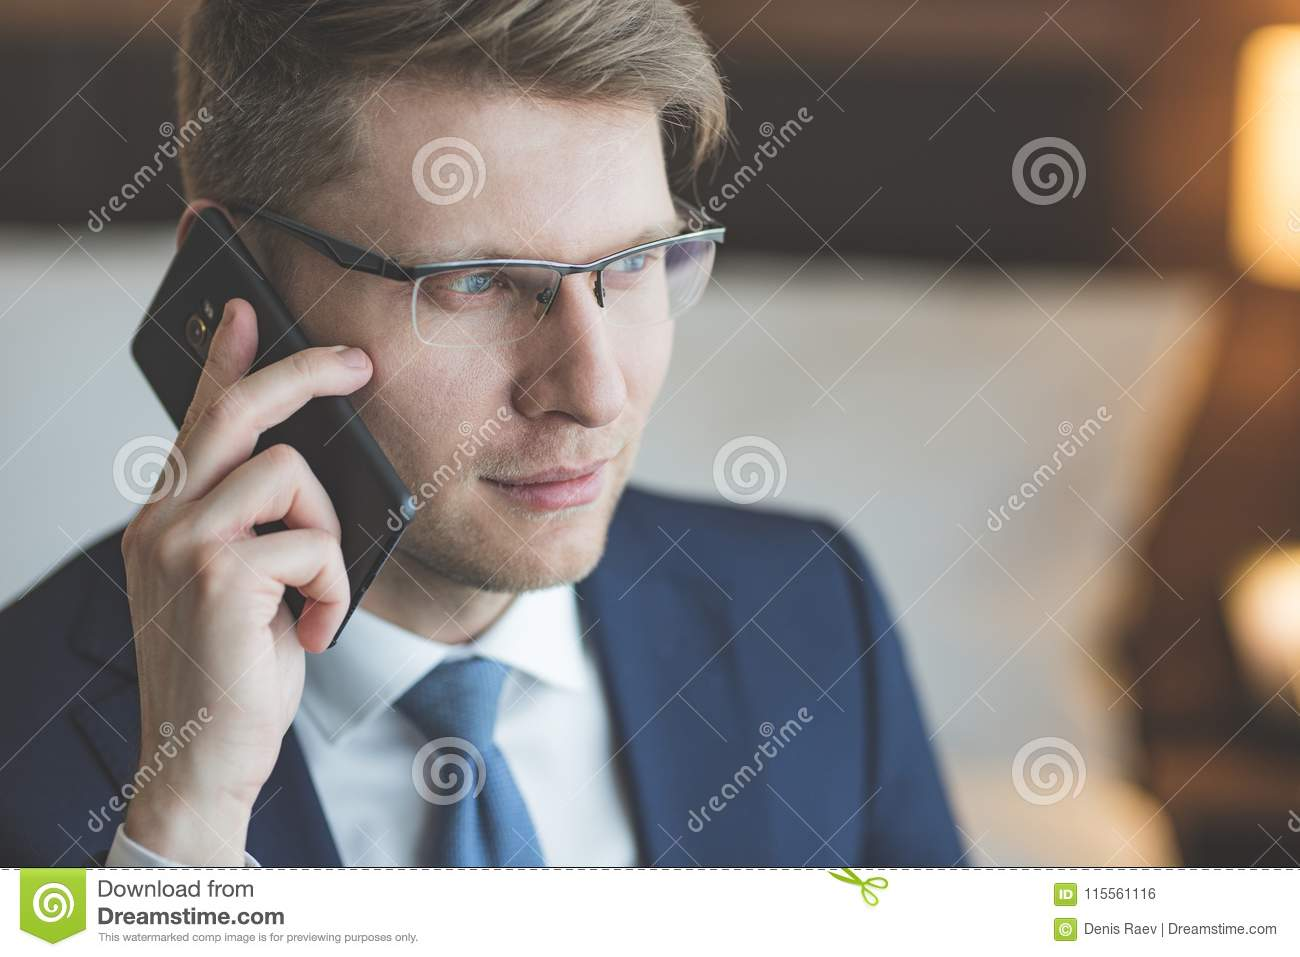phone: (131, 206, 415, 656)
talk: (118, 204, 678, 832)
